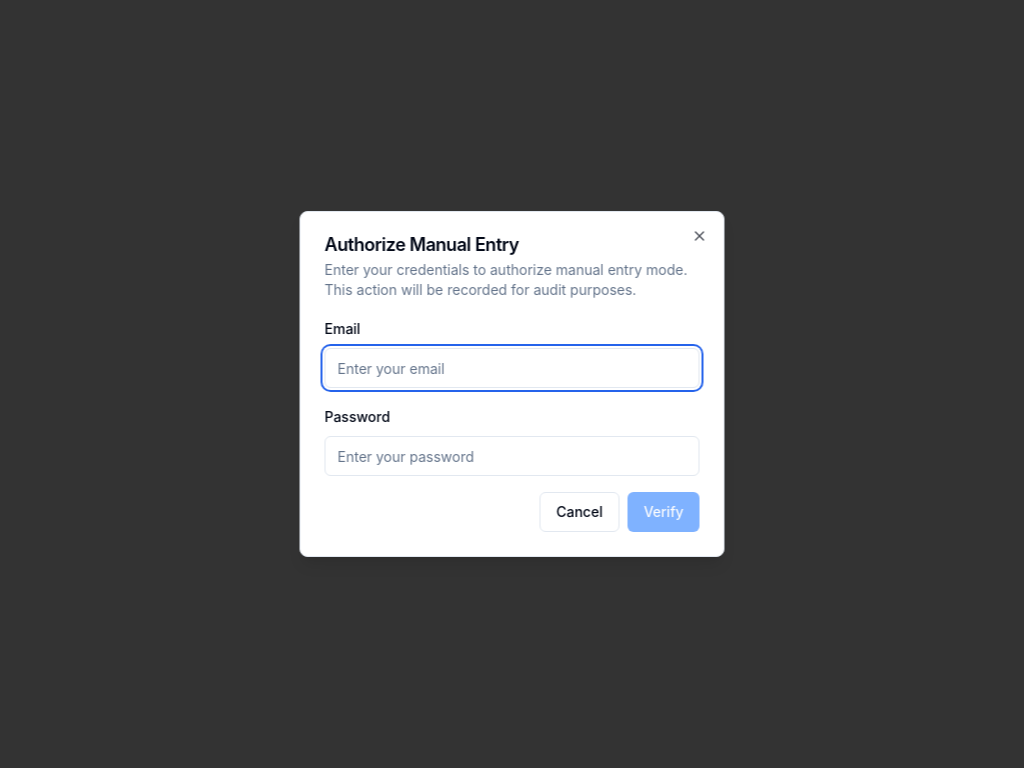
Scenario: ManualEntryAuthModal › Error Handling › should show error when credentials are invalid
Type "wrong@example.com" into the field with test id "email-input" at (512, 368), box [324,348,700,388]
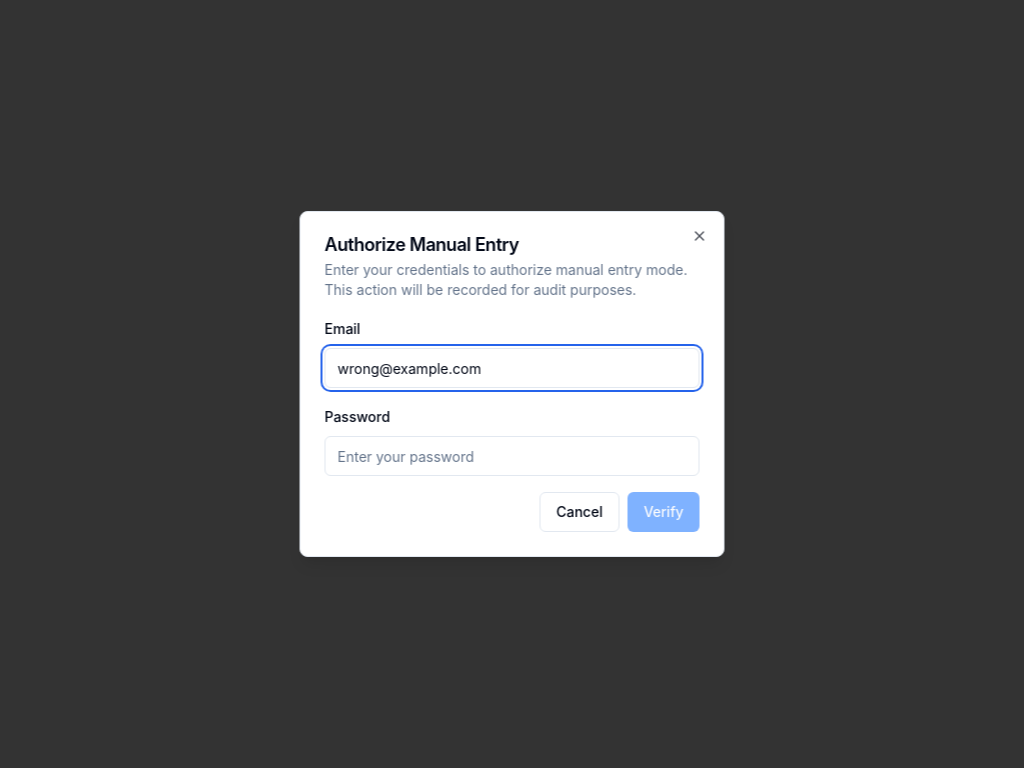
Type "wrongpassword" into the password field with test id "password-input" at (512, 456), box [324,436,700,476]
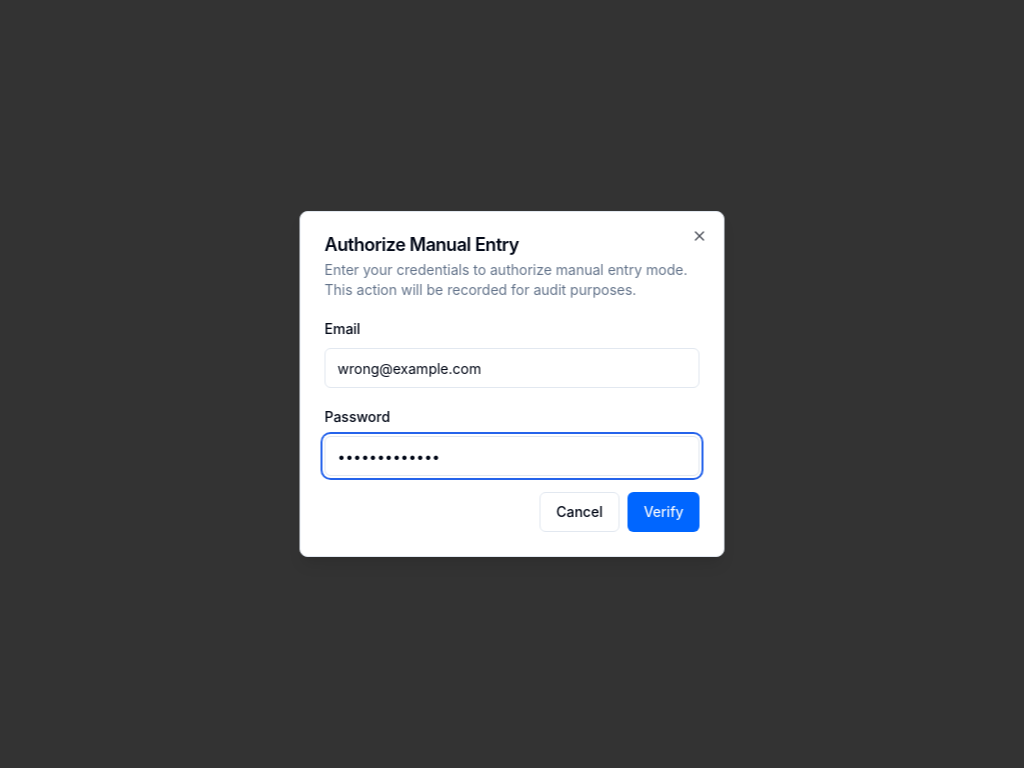
Click the button with test id "verify-button" at (664, 512), box [628,492,700,532]
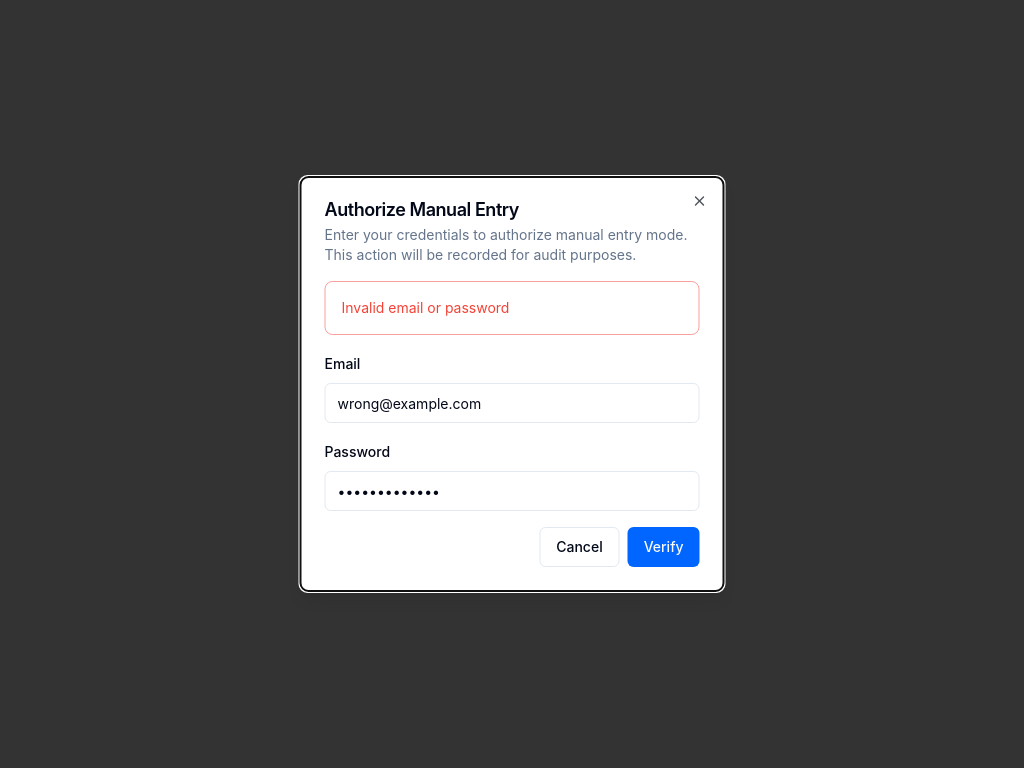
Result: the text "Invalid email or password" is shown at [342,299,510,316]
